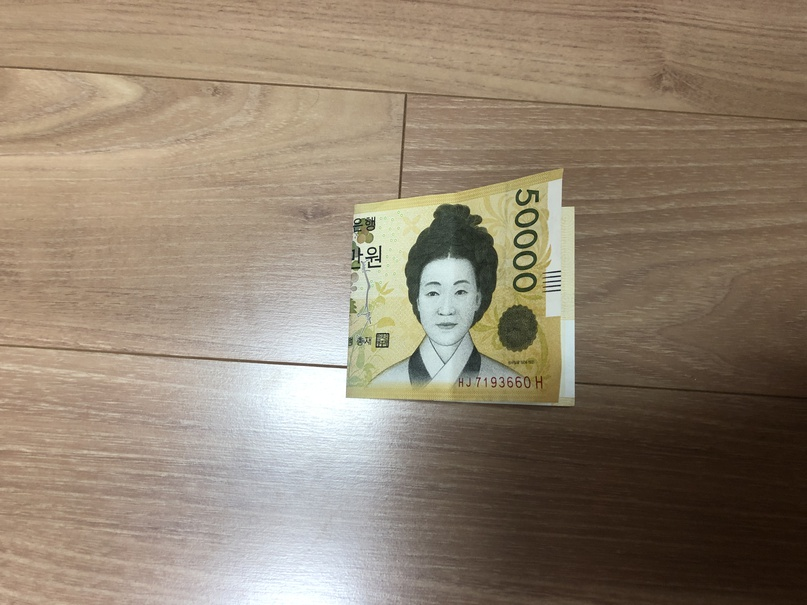50000won: (345, 168, 577, 410)
